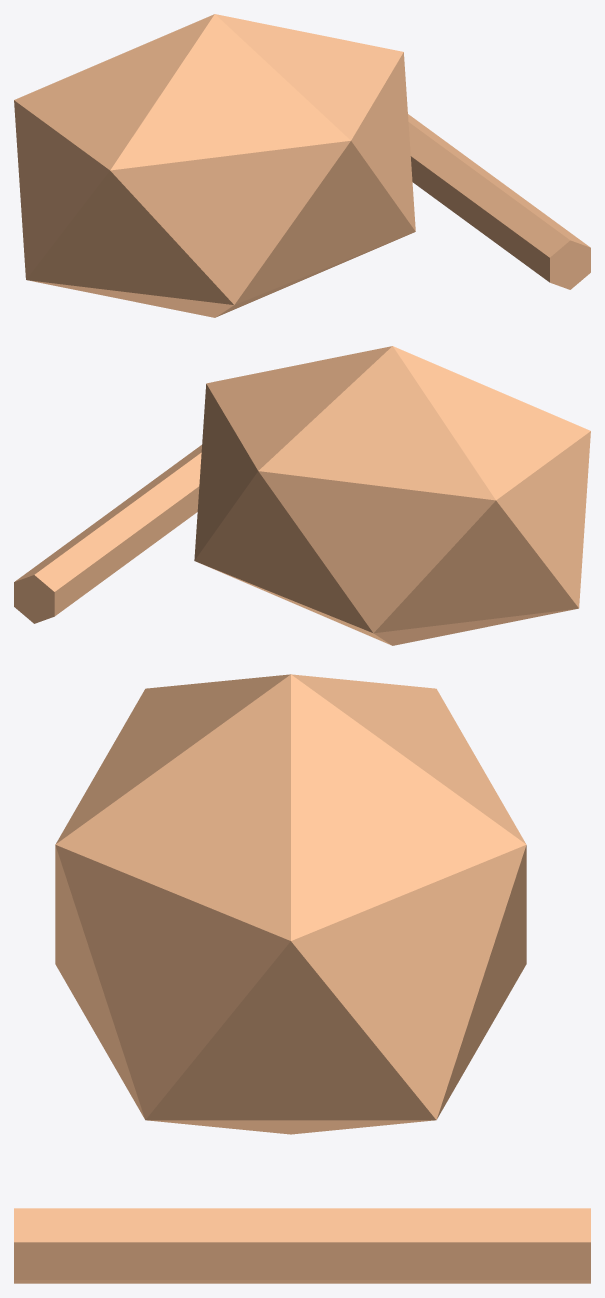
3 renders of one model, top to bottom at view 1: azimuth 30°, elevation 25°; view 2: azimuth 150°, elevation 25°; view 3: azimuth 270°, elevation 25°, orthographic. The views are drawn at different scales.
Visible parts, largest first — view 1: Wooden fish drum, Mallet; view 2: Wooden fish drum, Mallet; view 3: Wooden fish drum, Mallet.
Part boxes in pixels (<box>): Wooden fish drum: <box>14,14,415,317</box>; Mallet: <box>408,114,590,289</box>; Wooden fish drum: <box>194,346,590,645</box>; Mallet: <box>14,445,201,623</box>; Wooden fish drum: <box>55,674,526,1134</box>; Mallet: <box>14,1208,590,1283</box>.
Size of the model in its own units: 35.87 by 22 by 25.
